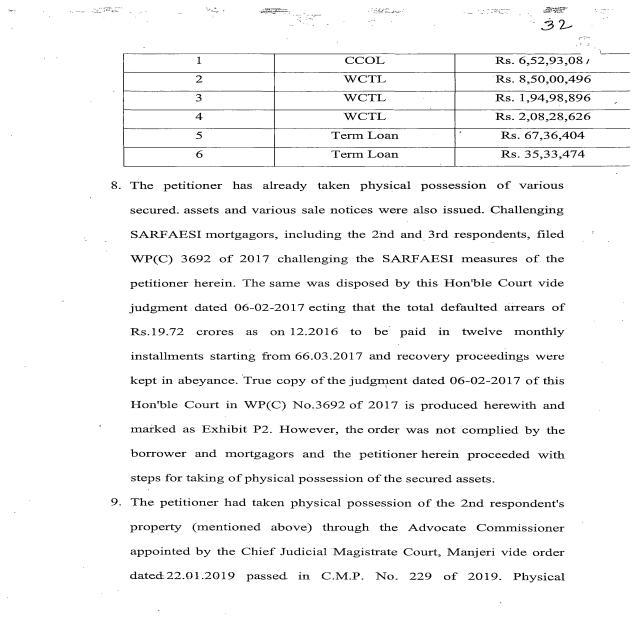page-number: (435, 0, 640, 50)
